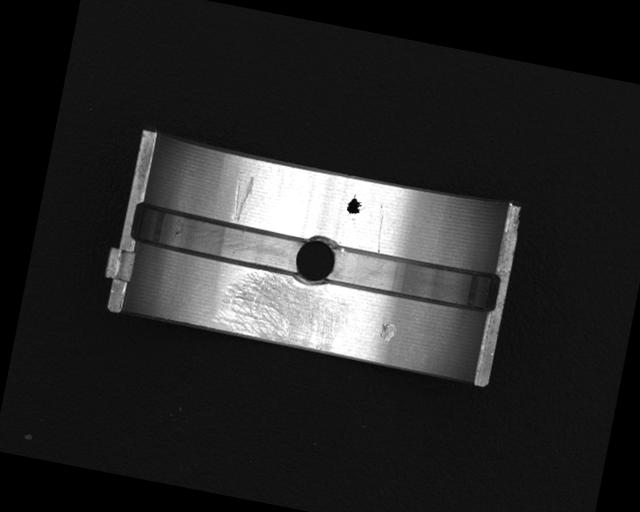blot: (344, 192, 365, 216)
bruise: (378, 322, 396, 343)
gap: (326, 241, 501, 315), (127, 202, 303, 275)
hole: (290, 229, 341, 288)
nick: (226, 172, 257, 223), (371, 204, 388, 252)
scratch: (211, 265, 355, 355)
